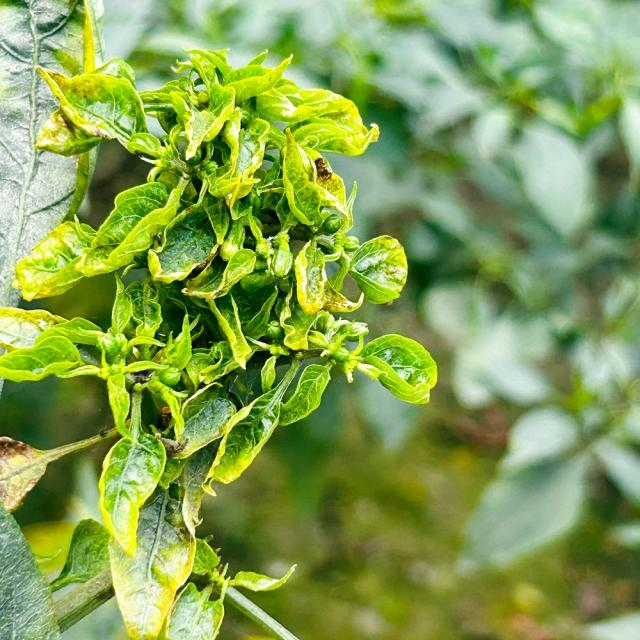Chilli_Leaf_Curl: (1, 23, 439, 637)
